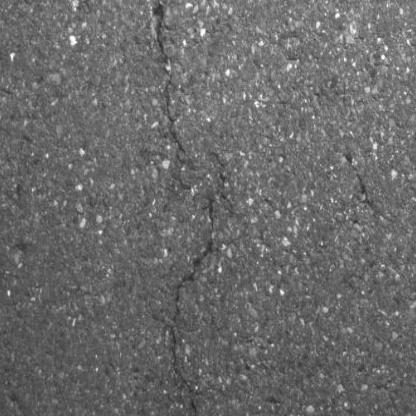Cracks: (167, 168, 232, 416), (151, 0, 193, 161)
